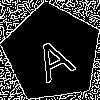A: (27, 28, 78, 84)
